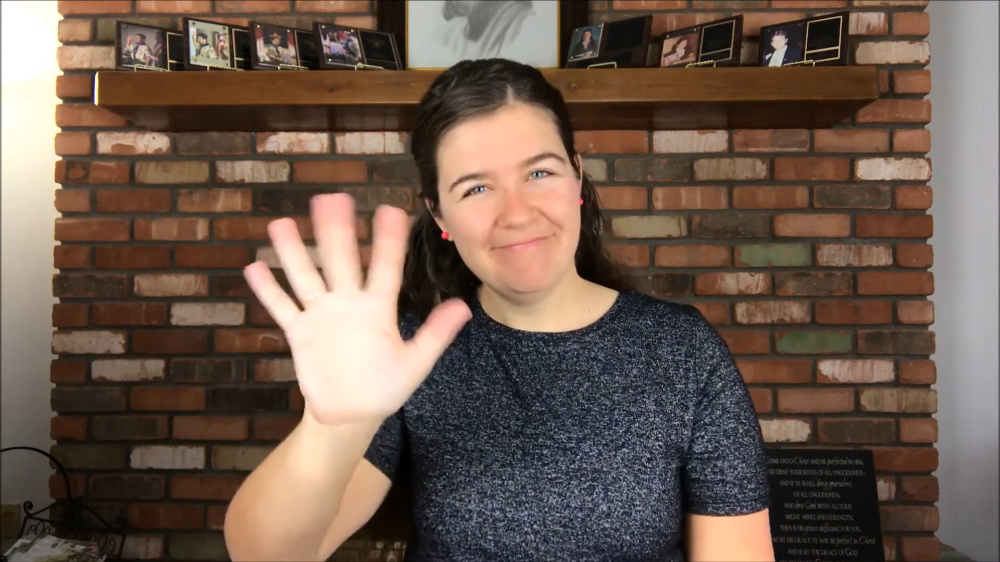hello: (243, 192, 473, 421)
